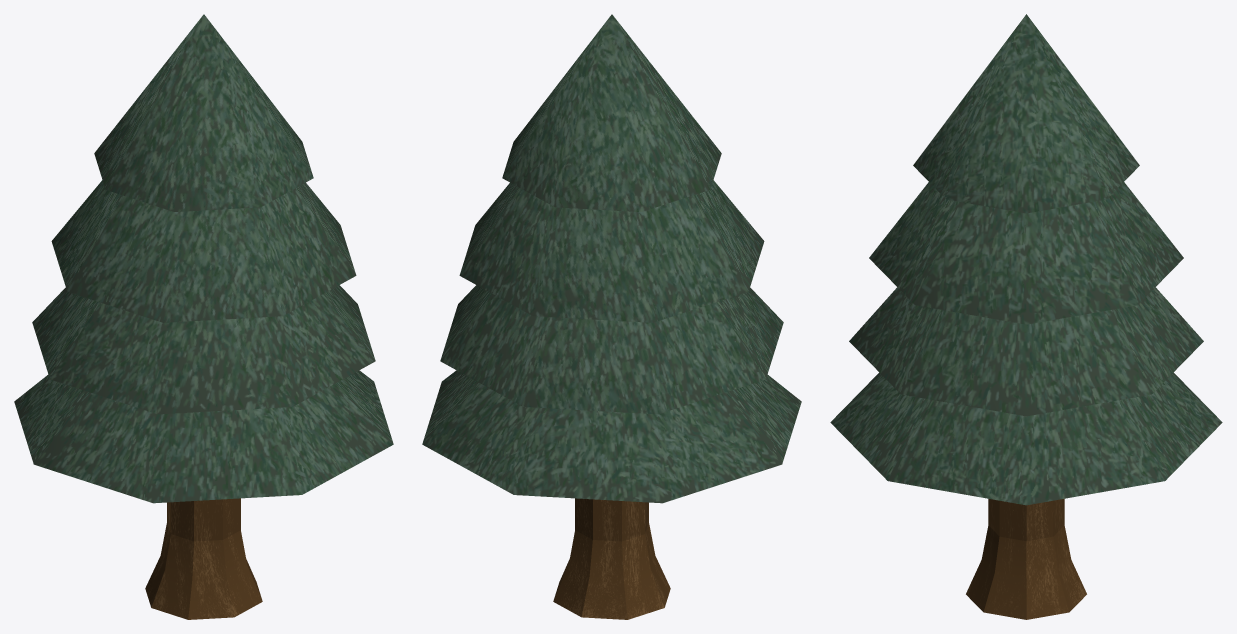
The model's file is tree.fbx.
3 views of the same model, side by side, from view 1: azimuth 30°, elevation 25°; view 2: azimuth 150°, elevation 25°; view 3: azimuth 270°, elevation 25° (orthographic).
Visible parts, largest first — view 1: tree; view 2: tree; view 3: tree.
Boxes of the visible parts, bbox=[...] form: tree: bbox=[14, 14, 393, 619]; tree: bbox=[422, 14, 801, 619]; tree: bbox=[830, 14, 1222, 619].
Bounding box in the file's own units: 122 × 199 × 122.
1 material, 1 textured.
